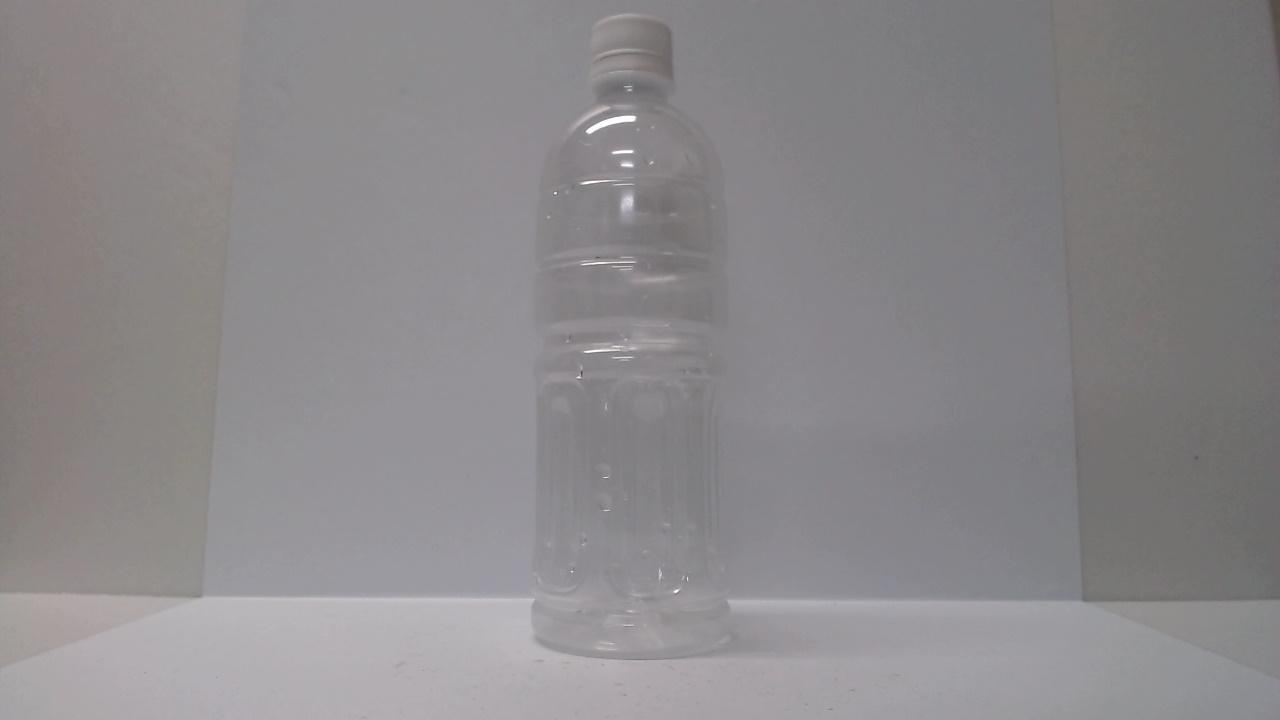bottle: (504, 4, 753, 663)
